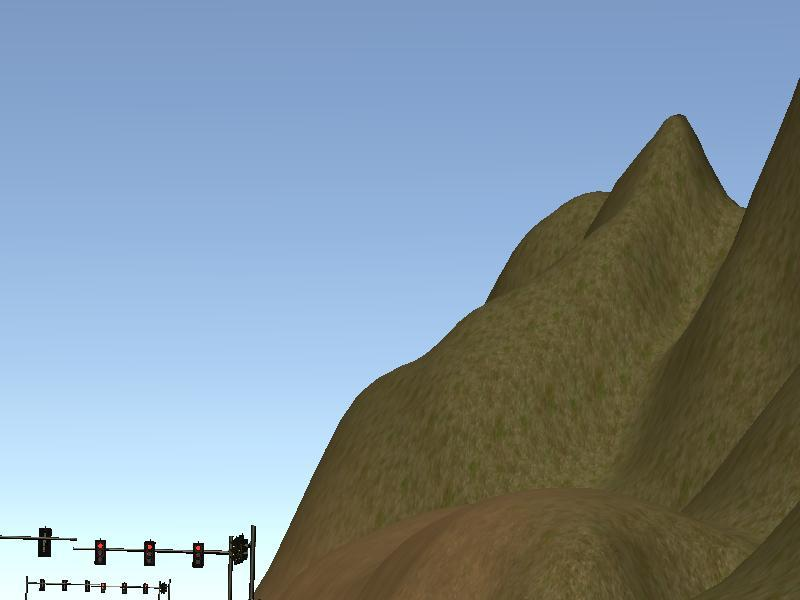Red: (94, 539, 106, 566), (191, 542, 203, 569), (142, 540, 154, 567)
